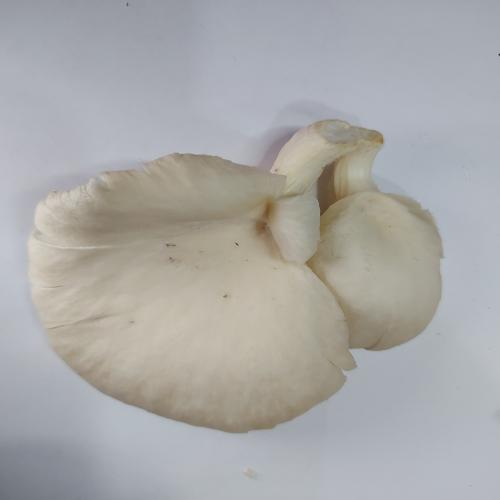Oyster Mushroom: (27, 118, 445, 434)
